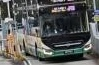bus: (67, 5, 75, 10)
